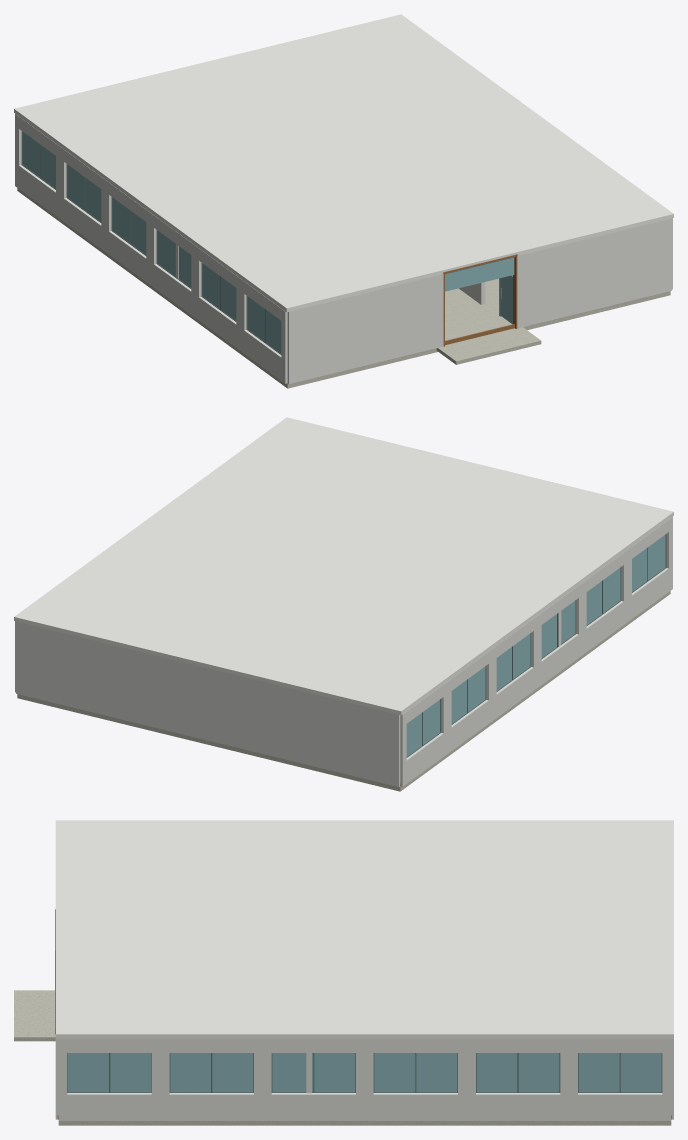
The model's file is dorm.glb.
3 renders of one model, top to bottom at view 1: azimuth 30°, elevation 25°; view 2: azimuth 150°, elevation 25°; view 3: azimuth 270°, elevation 25°, orthographic. The views are drawn at different scales.
Parts seen in each view (by area): view 1: interior-batch__interior-ceiling, interior-batch__interior-plaster, interior-batch__interior-glass, interior-batch__interior-terrazzo, interior-batch__interior-metal, interior-batch__interior-oak; view 2: interior-batch__interior-ceiling, interior-batch__interior-plaster, interior-batch__interior-glass, interior-batch__interior-terrazzo, interior-batch__interior-metal; view 3: interior-batch__interior-ceiling, interior-batch__interior-plaster, interior-batch__interior-glass, interior-batch__interior-terrazzo, interior-batch__interior-metal, interior-batch__interior-white.
Part boxes in pixels (left/top/right/bottom): interior-batch__interior-ceiling: left=14, top=14, right=673, bottom=312; interior-batch__interior-plaster: left=15, top=114, right=672, bottom=383; interior-batch__interior-glass: left=22, top=131, right=514, bottom=353; interior-batch__interior-terrazzo: left=17, top=188, right=670, bottom=388; interior-batch__interior-metal: left=21, top=131, right=514, bottom=354; interior-batch__interior-oak: left=443, top=254, right=517, bottom=346; interior-batch__interior-ceiling: left=14, top=417, right=673, bottom=715; interior-batch__interior-plaster: left=15, top=517, right=672, bottom=786; interior-batch__interior-glass: left=406, top=534, right=665, bottom=756; interior-batch__interior-terrazzo: left=17, top=591, right=670, bottom=791; interior-batch__interior-metal: left=406, top=534, right=666, bottom=757; interior-batch__interior-ceiling: left=55, top=820, right=673, bottom=1038; interior-batch__interior-plaster: left=55, top=1039, right=673, bottom=1120; interior-batch__interior-glass: left=68, top=1053, right=661, bottom=1092; interior-batch__interior-terrazzo: left=14, top=990, right=671, bottom=1125; interior-batch__interior-metal: left=67, top=1053, right=662, bottom=1092; interior-batch__interior-white: left=67, top=1093, right=662, bottom=1093.
Bounding box in the file's own units: 18.22 × 3.67 × 23.7.
19 materials, 3 textured.
